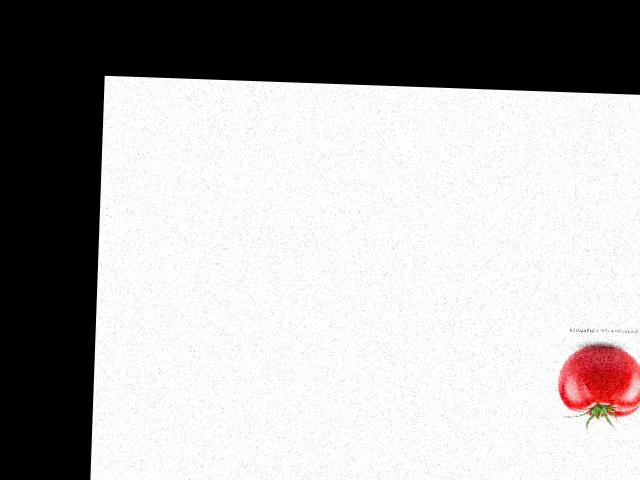tomato: (556, 345, 640, 417)
